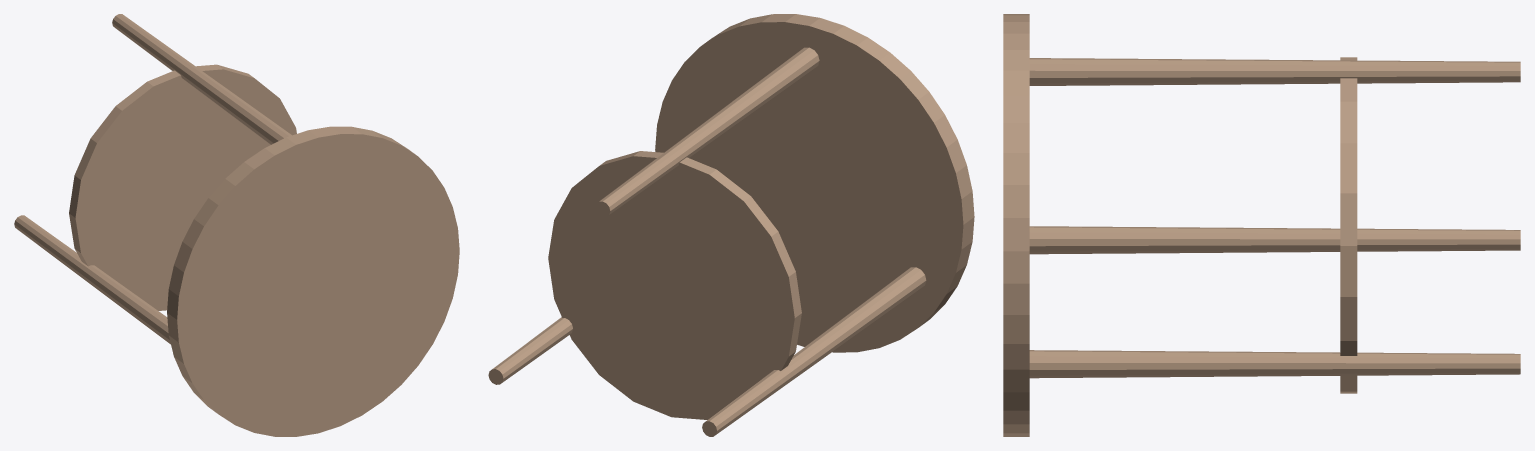
Rendered from side_table.glb.
The picture shows the model from 3 angles, left to right: view 1: azimuth 30°, elevation 25°; view 2: azimuth 150°, elevation 25°; view 3: azimuth 270°, elevation 25°; orthographic projection. The views are drawn at different scales.
Parts seen in each view (by area): view 1: top, stretcher, leg, leg_2; view 2: top, stretcher, leg, leg_2, leg_3; view 3: leg_3, leg, leg_2, top, stretcher.
Boxes of the visible parts, x1=… form: top: x1=167, y1=126, x2=459, y2=436; stretcher: x1=69, y1=64, x2=296, y2=310; leg: x1=112, y1=14, x2=291, y2=144; leg_2: x1=14, y1=215, x2=170, y2=344; top: x1=655, y1=14, x2=974, y2=352; stretcher: x1=548, y1=151, x2=801, y2=419; leg: x1=595, y1=47, x2=819, y2=217; leg_2: x1=702, y1=267, x2=926, y2=436; leg_3: x1=488, y1=317, x2=572, y2=384; leg_3: x1=1029, y1=350, x2=1520, y2=378; leg: x1=1029, y1=58, x2=1520, y2=85; leg_2: x1=1029, y1=226, x2=1520, y2=254; top: x1=1003, y1=14, x2=1029, y2=436; stretcher: x1=1340, y1=57, x2=1357, y2=393.
Size of the model in its own units: 0.45 by 0.45 by 0.55.
